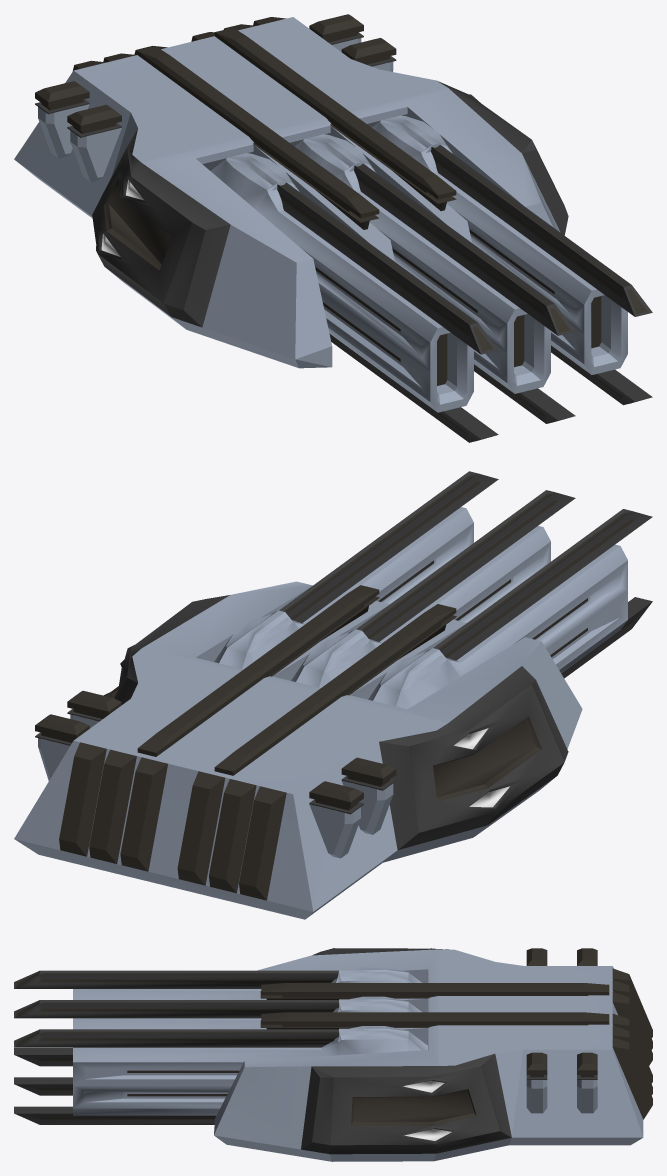
File: 666_tripple_dekker.glb
3 views of the same model, one above another, from view 1: azimuth 30°, elevation 25°; view 2: azimuth 150°, elevation 25°; view 3: azimuth 270°, elevation 25° (orthographic). The views are drawn at different scales.
Parts seen in each view (by area): view 1: 66_trippledekker_turret, 66_trippledekker_barrel; view 2: 66_trippledekker_turret, 66_trippledekker_barrel; view 3: 66_trippledekker_turret, 66_trippledekker_barrel.
Part boxes in pixels (bbox=[...]): 66_trippledekker_turret: bbox=[14, 14, 568, 368]; 66_trippledekker_barrel: bbox=[210, 115, 652, 442]; 66_trippledekker_turret: bbox=[14, 581, 582, 919]; 66_trippledekker_barrel: bbox=[214, 471, 652, 709]; 66_trippledekker_turret: bbox=[214, 948, 652, 1161]; 66_trippledekker_barrel: bbox=[14, 967, 427, 1124].
Bounding box in the file's own units: 0.823 × 0.2384 × 1.46.
